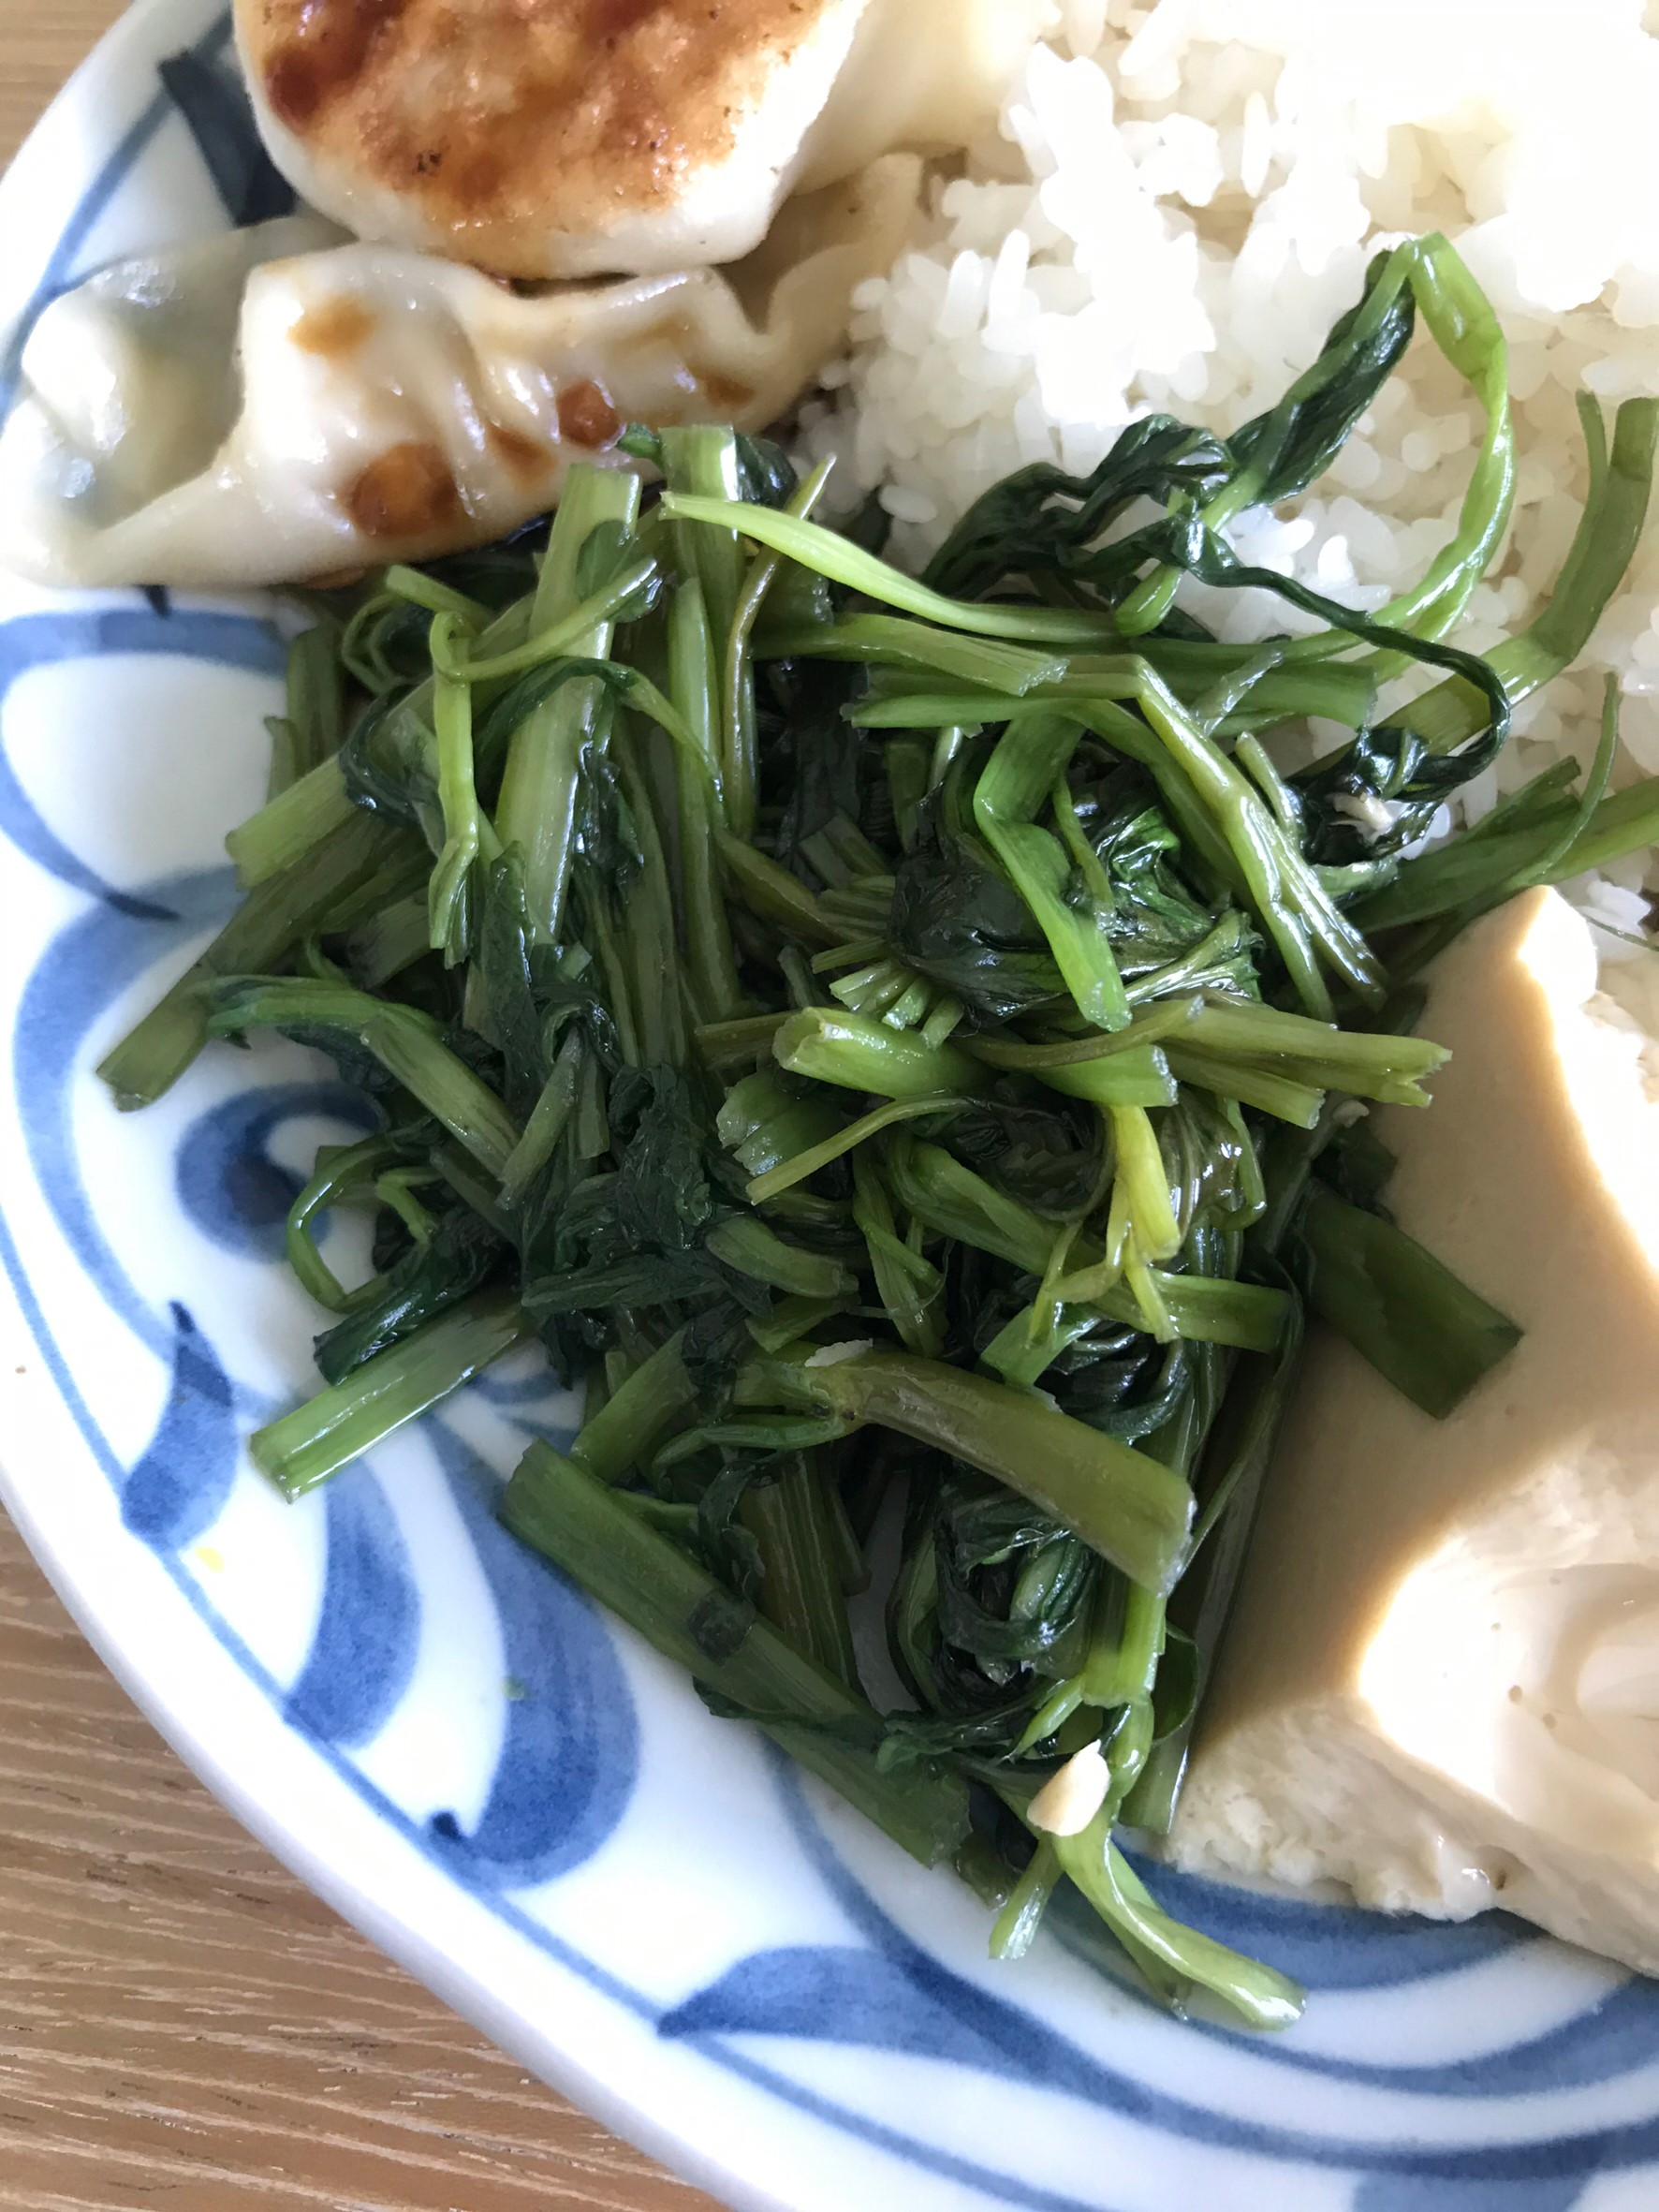fried_dumplings: (2, 2, 884, 577)
rice: (910, 2, 1650, 490)
water_spinach: (453, 558, 1337, 1506)
